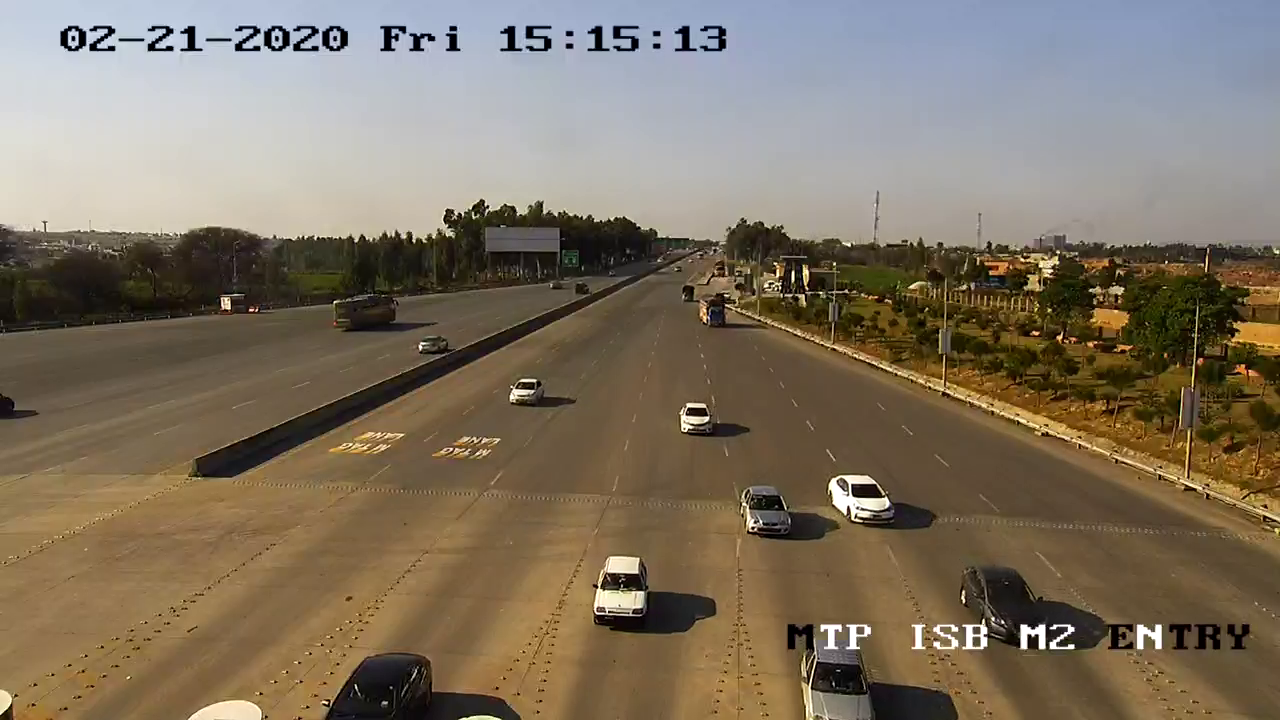f1: (585, 547, 657, 634), (822, 467, 903, 535), (737, 479, 797, 542)
